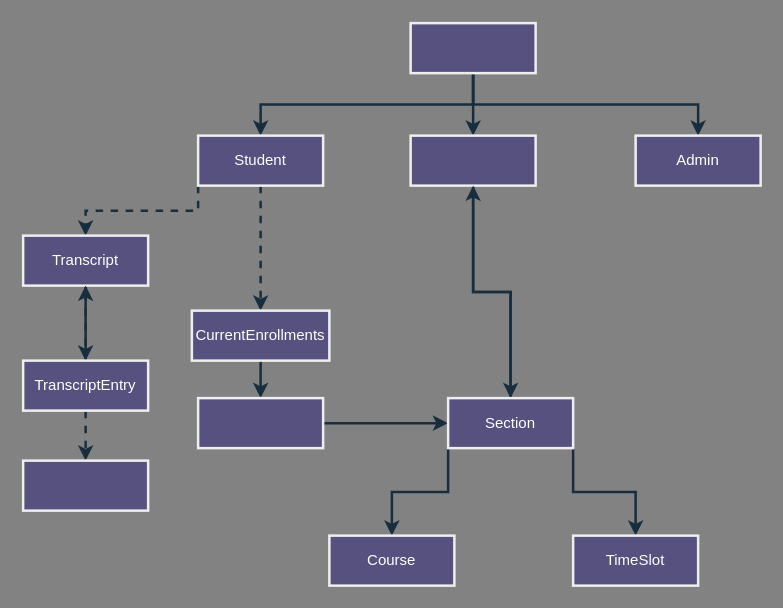
This 783x608 diagram has some shape labels left out. Each missing label, with the centre of its shape:
"Enrollment" goes at point 260,422.
"Grade" goes at point 85,485.
"Instructor" goes at point 472,160.
"Person" goes at point 472,47.
